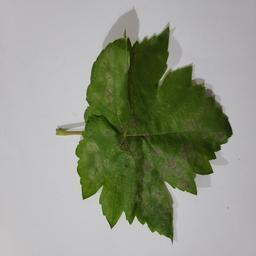Powdery-Mildew: (94, 52, 122, 108), (131, 175, 170, 212), (155, 151, 190, 186), (81, 140, 106, 172), (185, 106, 211, 134)
